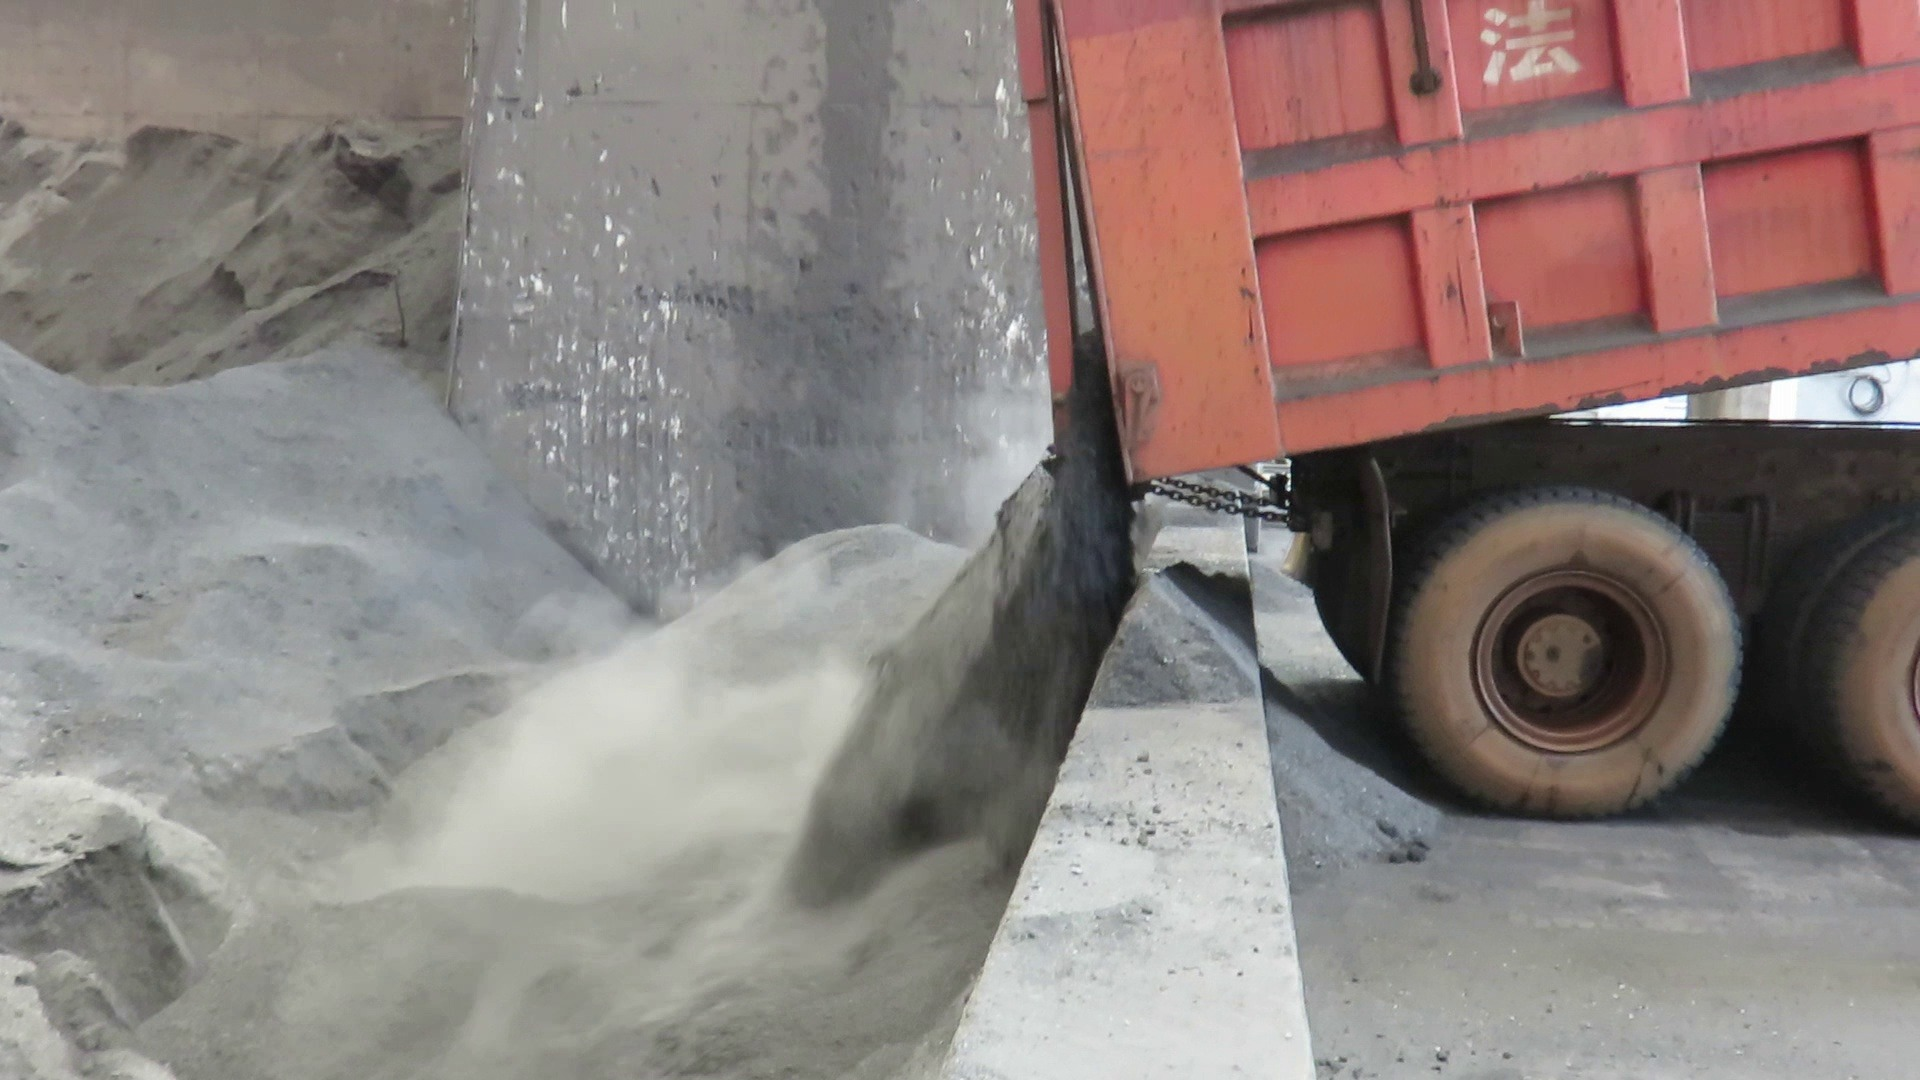dust: (331, 520, 934, 918), (936, 375, 1046, 508)
truck: (996, 0, 1919, 825)
